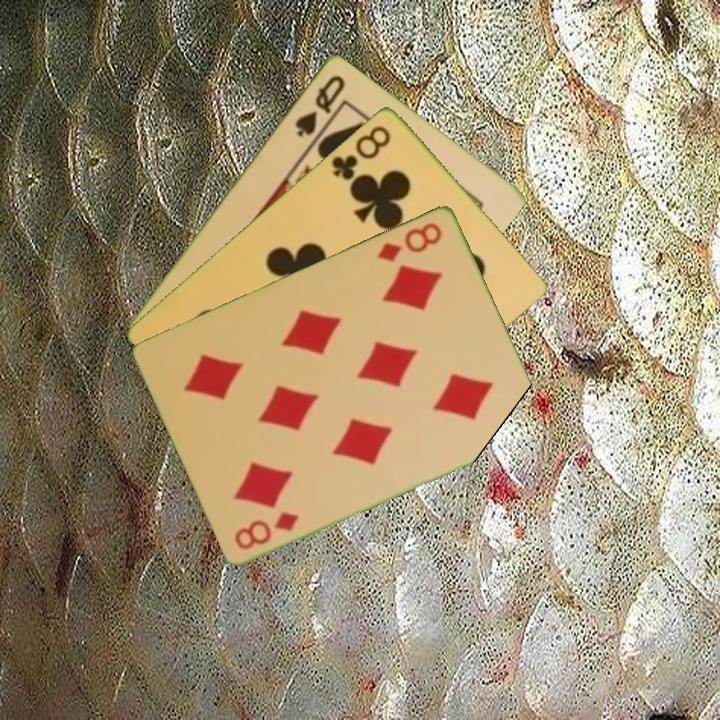8c: (327, 121, 394, 183)
8d: (374, 218, 446, 264), (231, 507, 302, 553)
Qs: (291, 71, 348, 139)
